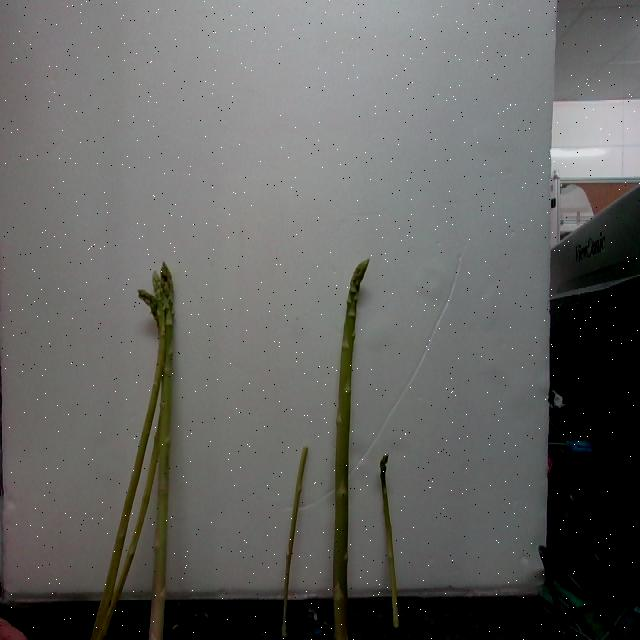aspargus: (333, 260, 370, 640), (139, 265, 174, 640)
